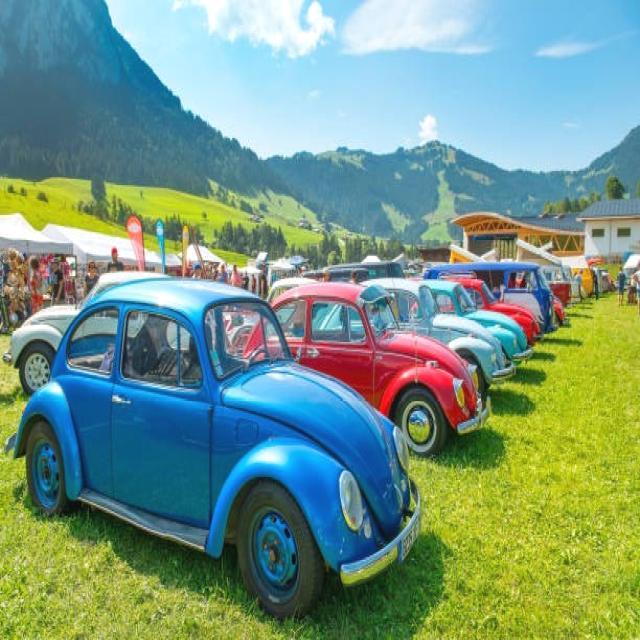car: (23, 282, 423, 594), (269, 269, 478, 449)
